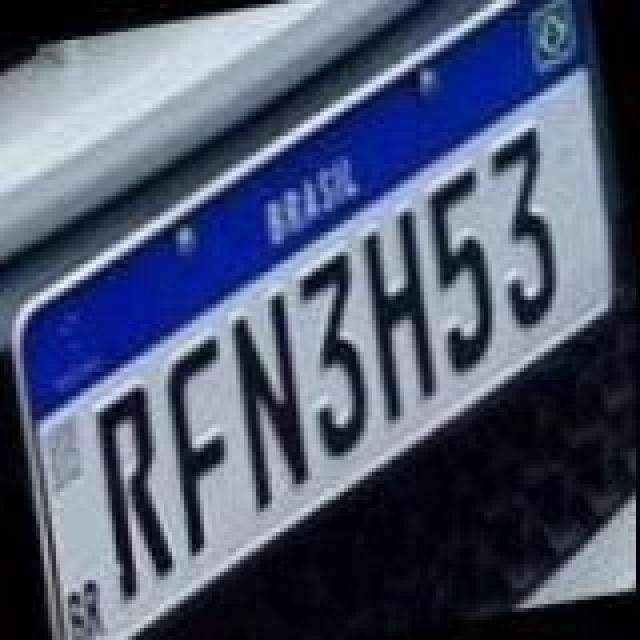3: (286, 250, 382, 462), (476, 122, 572, 334)
5: (414, 164, 510, 376)
F: (152, 330, 256, 554)
H: (348, 200, 448, 420)
N: (222, 288, 322, 512)
R: (86, 380, 186, 604)
